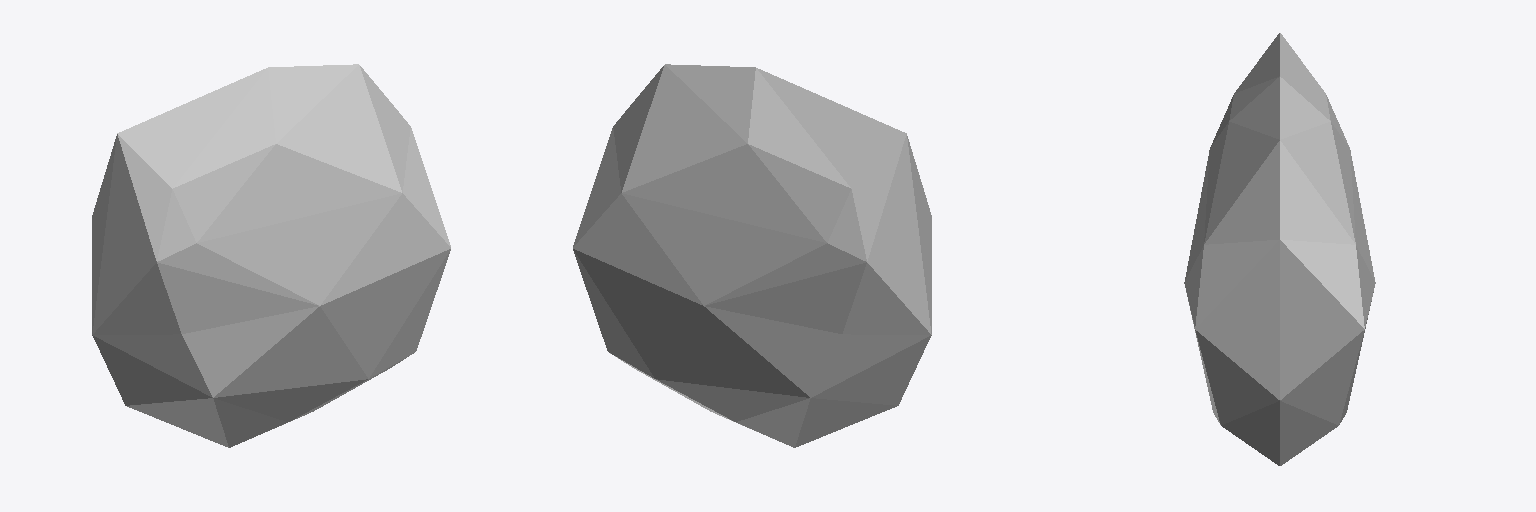
File: silicon_body.obj
The picture shows the model from 3 angles: view 1: azimuth 30°, elevation 25°; view 2: azimuth 150°, elevation 25°; view 3: azimuth 270°, elevation 25°; orthographic projection.
Parts seen in each view (by area): view 1: SiliconBody; view 2: SiliconBody; view 3: SiliconBody.
Part boxes in pixels (left/top/right/bottom): SiliconBody: left=92, top=64, right=450, bottom=447; SiliconBody: left=573, top=64, right=931, bottom=447; SiliconBody: left=1184, top=33, right=1375, bottom=465.
Bounding box in the file's own units: 1.66 × 1.8 × 0.8405.